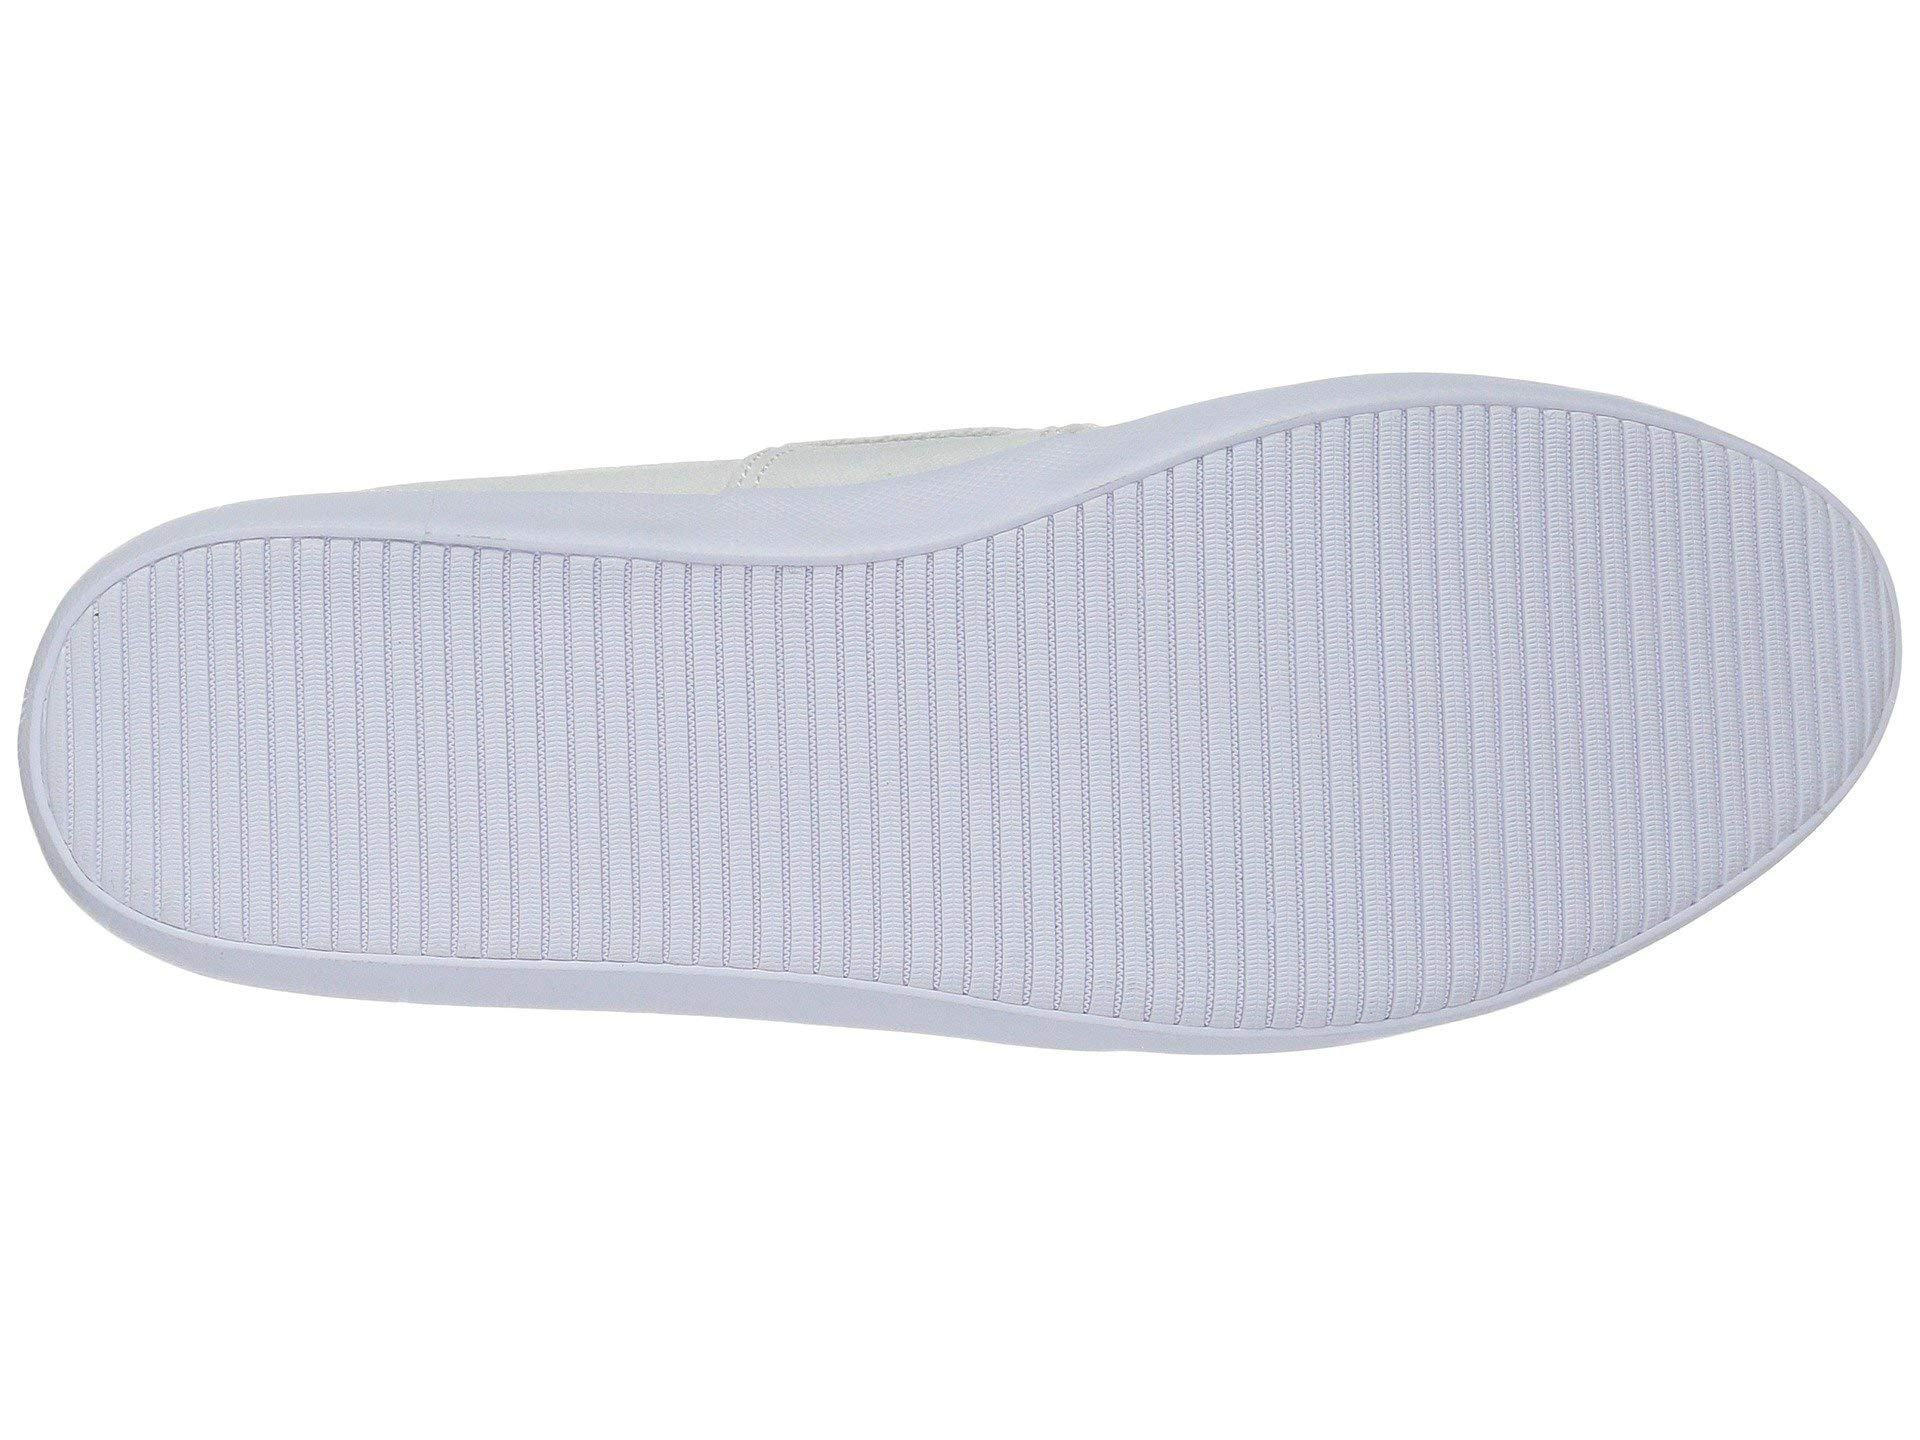line: (1247, 554, 1621, 892), (751, 597, 1066, 888)
